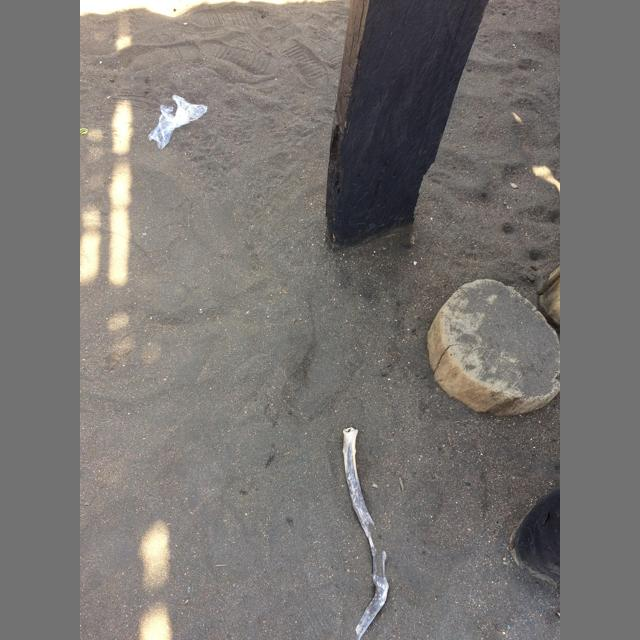litter: (148, 95, 207, 149), (80, 128, 88, 135)
